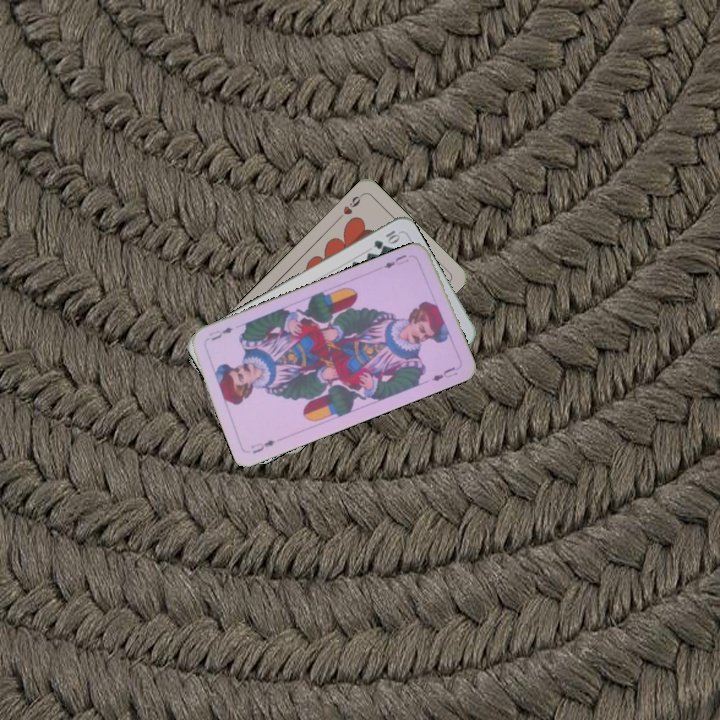EU: (380, 250, 411, 271), (246, 436, 277, 456)
G10: (370, 226, 402, 252)
H9: (334, 190, 365, 223)
